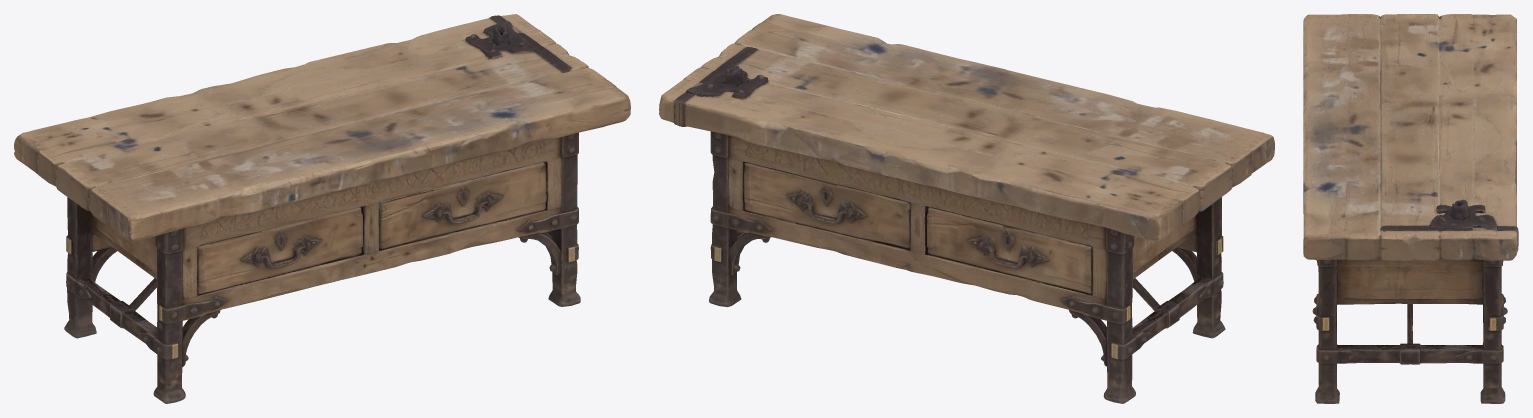
The model's file is desk.glb.
The picture shows the model from 3 angles, left to right: view 1: azimuth 30°, elevation 25°; view 2: azimuth 150°, elevation 25°; view 3: azimuth 270°, elevation 25°; orthographic projection. The views are drawn at different scales.
Visible parts, largest first — view 1: Mesh_0; view 2: Mesh_0; view 3: Mesh_0.
Boxes of the visible parts, box(x1,y1,x2,y2) form: Mesh_0: box(14, 14, 630, 403); Mesh_0: box(659, 14, 1274, 403); Mesh_0: box(1303, 14, 1518, 403).
Size of the model in its own units: 1.9 by 0.7958 by 0.7683.
Materials: 1 (1 with a texture image).
